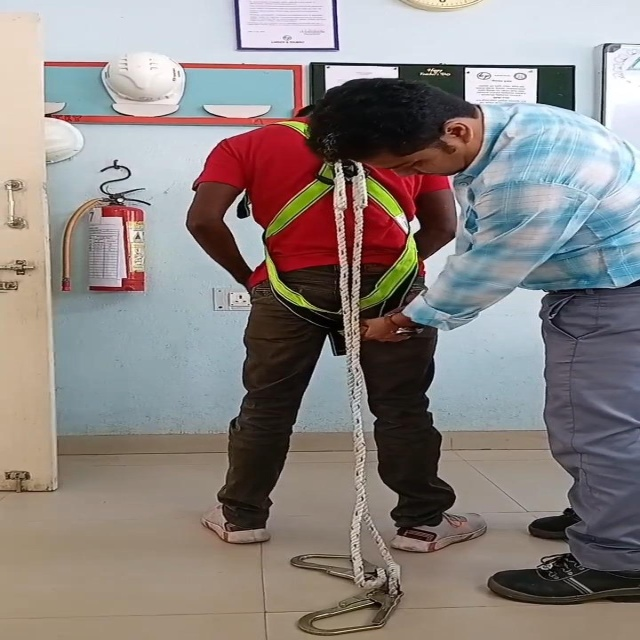Arnes_seguridad: (222, 105, 435, 346)
